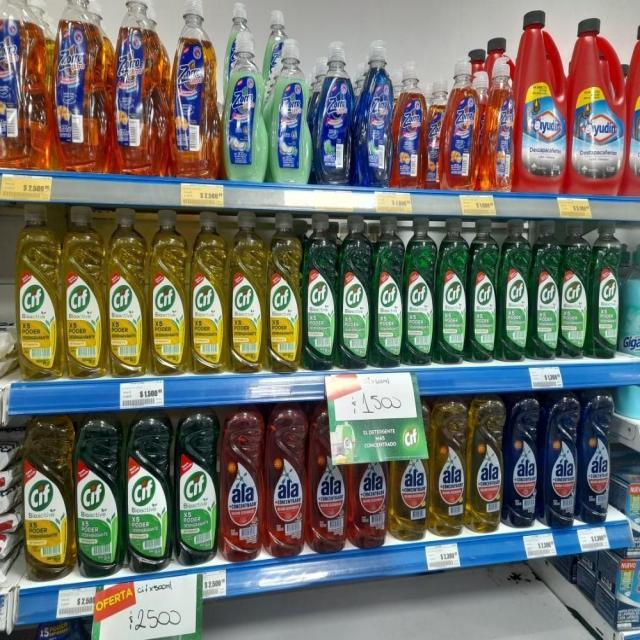ala_conc_amarillo: (430, 396, 466, 538), (468, 396, 504, 534), (390, 452, 428, 543)
ala_conc_azul: (543, 389, 578, 528), (506, 392, 540, 529), (579, 390, 611, 524)
ala_conc_rojo: (220, 410, 264, 563), (266, 408, 307, 560), (308, 406, 347, 556), (349, 458, 388, 550)
cif_conc_bot_amarilla: (24, 418, 73, 581), (16, 204, 61, 381), (63, 205, 105, 379), (106, 207, 147, 377), (149, 207, 188, 375), (228, 210, 266, 373), (190, 210, 227, 374), (267, 212, 302, 373)
cif_conc_botella_verde: (125, 412, 173, 572), (76, 414, 122, 578), (176, 410, 218, 565), (303, 214, 337, 370), (339, 215, 371, 370), (373, 216, 403, 368), (404, 219, 435, 366), (436, 219, 467, 365), (468, 219, 498, 364), (499, 219, 529, 361), (530, 219, 560, 361), (590, 223, 620, 360), (560, 222, 589, 360)
magistral_con_azul: (25, 618, 94, 640)
zorro: (268, 31, 312, 186), (442, 50, 478, 192), (393, 56, 427, 190)
